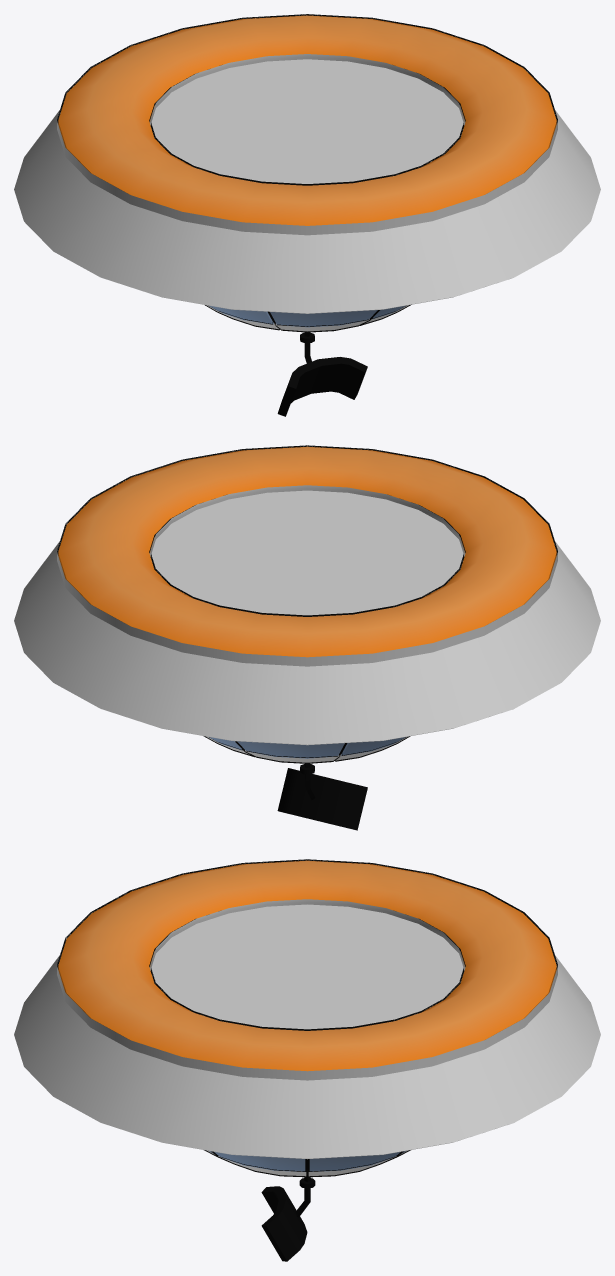
The model's file is Rooms_Paradise_SciFi_Capsule_Art.fbx.
3 renders of one model, top to bottom at view 1: azimuth 30°, elevation 25°; view 2: azimuth 150°, elevation 25°; view 3: azimuth 270°, elevation 25°, orthographic.
Parts seen in each view (by area): view 1: Rooms_Paradise_SciFi_Capsule_Trans, Rooms_Paradise_SciFi_Capsule_Art, Rooms_Paradise_SciFi_Capsule_Shadows, Rooms_Paradise_SciFi_Capsule_Antenna, Rooms_Paradise_SciFi_Capsule_Outline; view 2: Rooms_Paradise_SciFi_Capsule_Trans, Rooms_Paradise_SciFi_Capsule_Art, Rooms_Paradise_SciFi_Capsule_Shadows, Rooms_Paradise_SciFi_Capsule_Antenna, Rooms_Paradise_SciFi_Capsule_Outline; view 3: Rooms_Paradise_SciFi_Capsule_Trans, Rooms_Paradise_SciFi_Capsule_Art, Rooms_Paradise_SciFi_Capsule_Shadows, Rooms_Paradise_SciFi_Capsule_Antenna, Rooms_Paradise_SciFi_Capsule_Outline.
Part boxes in pixels (x1=…): Rooms_Paradise_SciFi_Capsule_Trans: x1=14, y1=59, x2=600, y2=313; Rooms_Paradise_SciFi_Capsule_Art: x1=58, y1=15, x2=556, y2=327; Rooms_Paradise_SciFi_Capsule_Shadows: x1=57, y1=14, x2=557, y2=331; Rooms_Paradise_SciFi_Capsule_Antenna: x1=277, y1=332, x2=367, y2=416; Rooms_Paradise_SciFi_Capsule_Outline: x1=57, y1=14, x2=557, y2=332; Rooms_Paradise_SciFi_Capsule_Trans: x1=14, y1=490, x2=600, y2=745; Rooms_Paradise_SciFi_Capsule_Art: x1=58, y1=446, x2=556, y2=758; Rooms_Paradise_SciFi_Capsule_Shadows: x1=57, y1=445, x2=557, y2=762; Rooms_Paradise_SciFi_Capsule_Antenna: x1=277, y1=763, x2=367, y2=830; Rooms_Paradise_SciFi_Capsule_Outline: x1=57, y1=445, x2=557, y2=763; Rooms_Paradise_SciFi_Capsule_Trans: x1=14, y1=904, x2=600, y2=1159; Rooms_Paradise_SciFi_Capsule_Art: x1=58, y1=860, x2=556, y2=1173; Rooms_Paradise_SciFi_Capsule_Shadows: x1=57, y1=859, x2=557, y2=1176; Rooms_Paradise_SciFi_Capsule_Antenna: x1=261, y1=1175, x2=315, y2=1261; Rooms_Paradise_SciFi_Capsule_Outline: x1=57, y1=859, x2=557, y2=1177.
Size of the model in its own units: 372 by 204 by 372.
